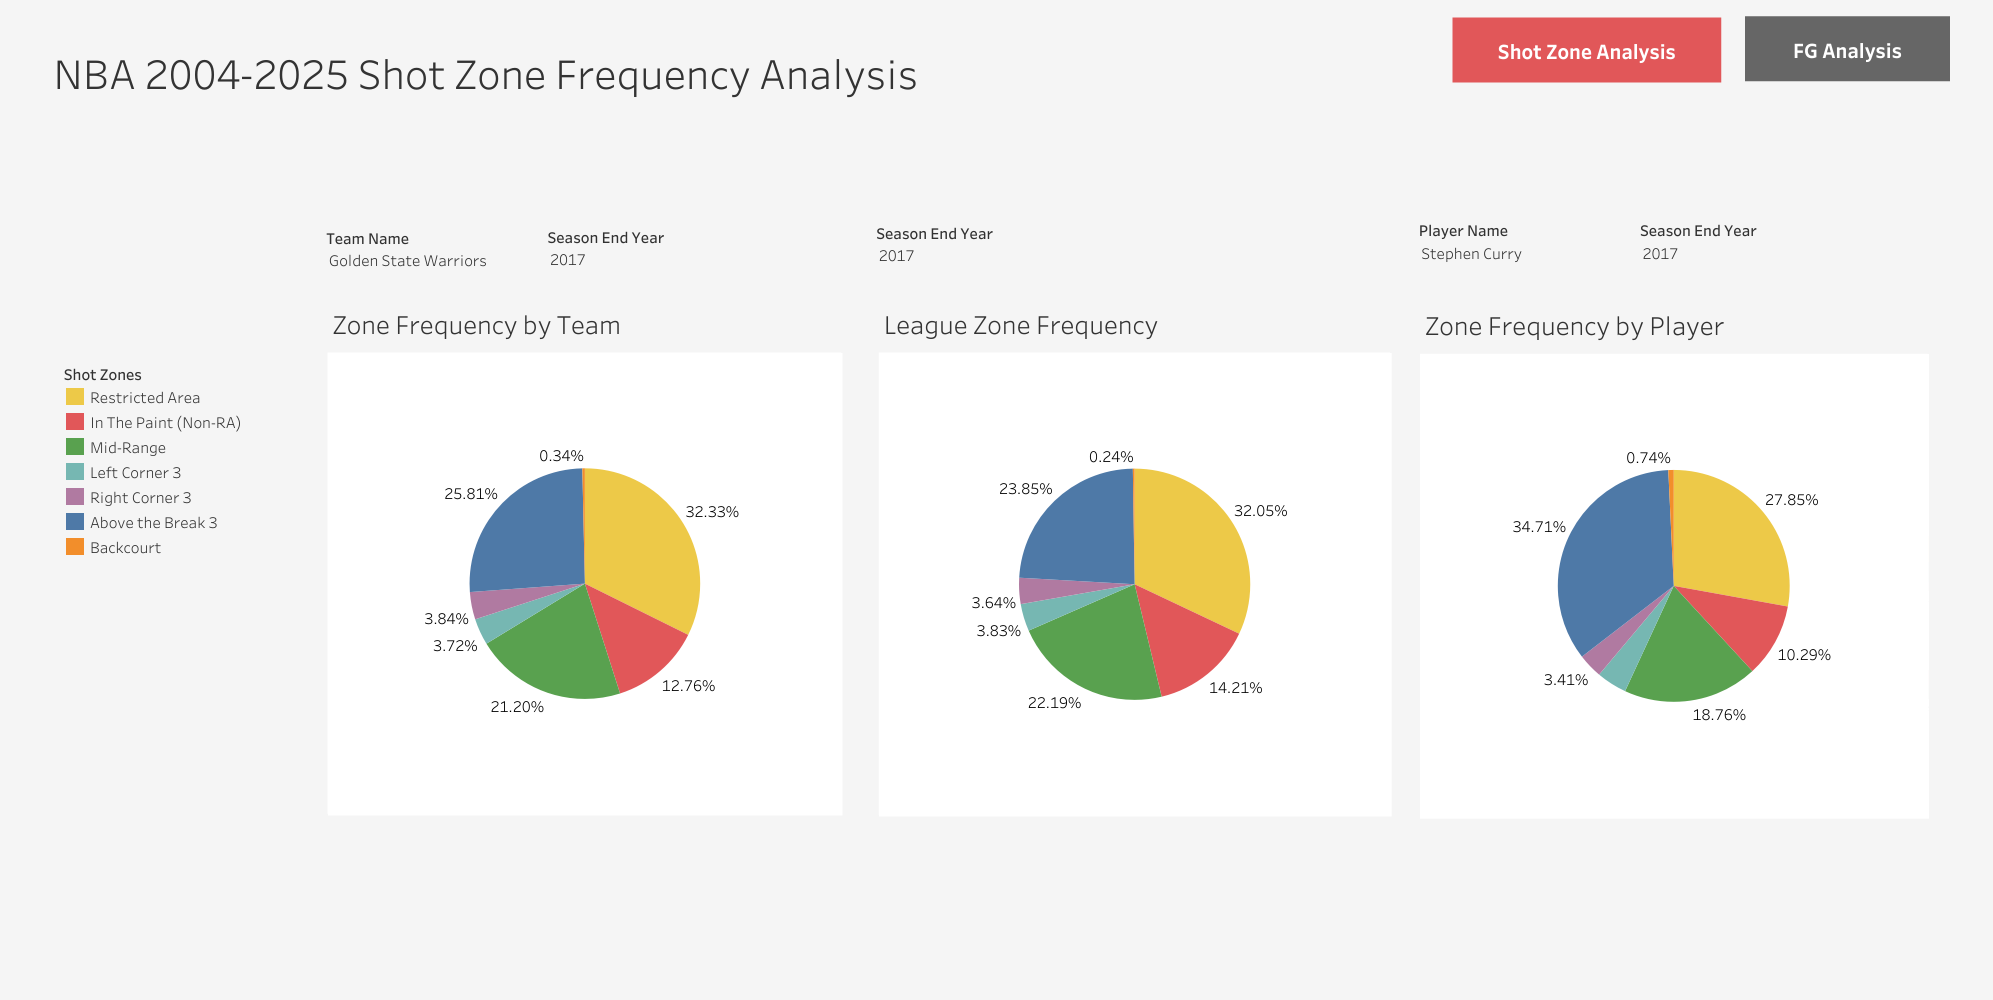

Layout of this report page (visuals, bound fields, positions):
{"tool":"tableau","page":{"name":"Shot Frequency Analysis","canvas":[1000,1000],"units":"permille","ordinal":1},"visuals":[{"type":"title","box":[18.8,12.5,633.2,119.9]},{"type":"dashboard-object","box":[875.2,16.2,102.8,64.9]},{"type":"dashboard-object","box":[728.5,17.5,134.8,64.9]},{"type":"filter","title":"Zone Frequency by Player","param":"[federated.04q6obv0sj0k1g1f3rzme1n8km3s (copy)].[none:PLAYER_NAME:nk]","box":[711.6,217.2,105.3,76.2]},{"type":"filter","title":"Zone Frequency by Player","param":"[federated.04q6obv0sj0k1g1f3rzme1n8km3s (copy)].[none:SEASON_1:ok]","box":[822.6,217.2,105.3,76.2]},{"type":"filter","title":"League Zone Frequency","param":"[federated.1tftnkw1dl6l7p1bgjx1a1u9h3q4].[none:SEASON_1:ok]","box":[439.5,219.7,105.3,76.2]},{"type":"filter","title":"Zone Frequency by Team","param":"[federated.1tftnkw1dl6l7p1bgjx1a1u9h3q4].[none:SEASON_1:ok]","box":[274.6,223.5,105.3,76.2]},{"type":"filter","title":"Zone Frequency by Team","param":"[federated.1tftnkw1dl6l7p1bgjx1a1u9h3q4].[none:TEAM_NAME:nk]","box":[163.6,224.7,105.3,76.2]},{"type":"worksheet","title":"Zone Frequency by Team","mark":"Pie","box":[164.3,298.4,257.7,514.4]},{"type":"worksheet","title":"League Zone Frequency","mark":"Pie","box":[440.8,298.4,256.4,515.6]},{"type":"worksheet","title":"Zone Frequency by Player","mark":"Pie","box":[712.2,299.6,254.6,516.9]},{"type":"legend","title":"Zone Frequency by Team","param":"[federated.1tftnkw1dl6l7p1bgjx1a1u9h3q4].[none:BASIC_ZONE:nk]","box":[31.4,359.6,112.2,211]}]}

Visuals, with their boxes on the dashboard's canvas, which has no fixed pixel size, in thousandths of its width and height (x1, y1, x2, y2). These are canvas units, not pixel positions in the 1993x1000 screenshot, which may show the page scaled, cropped or inside an application window:
title: (left=19, top=12, right=652, bottom=132)
dashboard-object: (left=875, top=16, right=978, bottom=81)
dashboard-object: (left=728, top=18, right=863, bottom=82)
"Zone Frequency by Player" filter: (left=712, top=217, right=817, bottom=293)
"Zone Frequency by Player" filter: (left=823, top=217, right=928, bottom=293)
"League Zone Frequency" filter: (left=440, top=220, right=545, bottom=296)
"Zone Frequency by Team" filter: (left=275, top=224, right=380, bottom=300)
"Zone Frequency by Team" filter: (left=164, top=225, right=269, bottom=301)
"Zone Frequency by Team" worksheet (Pie marks): (left=164, top=298, right=422, bottom=813)
"League Zone Frequency" worksheet (Pie marks): (left=441, top=298, right=697, bottom=814)
"Zone Frequency by Player" worksheet (Pie marks): (left=712, top=300, right=967, bottom=816)
"Zone Frequency by Team" legend: (left=31, top=360, right=144, bottom=571)
